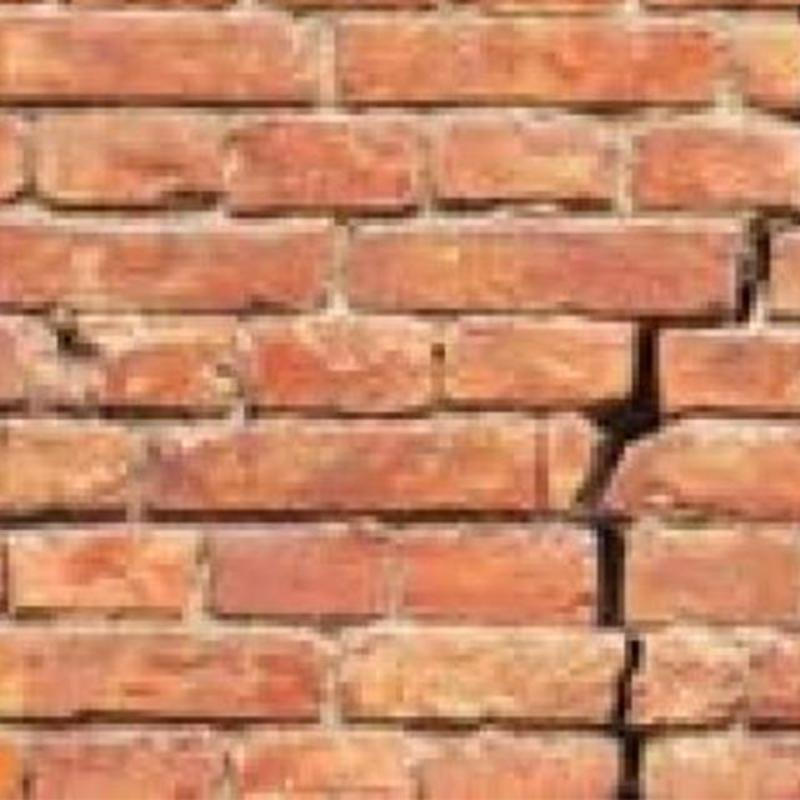pothole: (580, 319, 661, 626), (614, 633, 644, 799), (741, 217, 770, 321)
